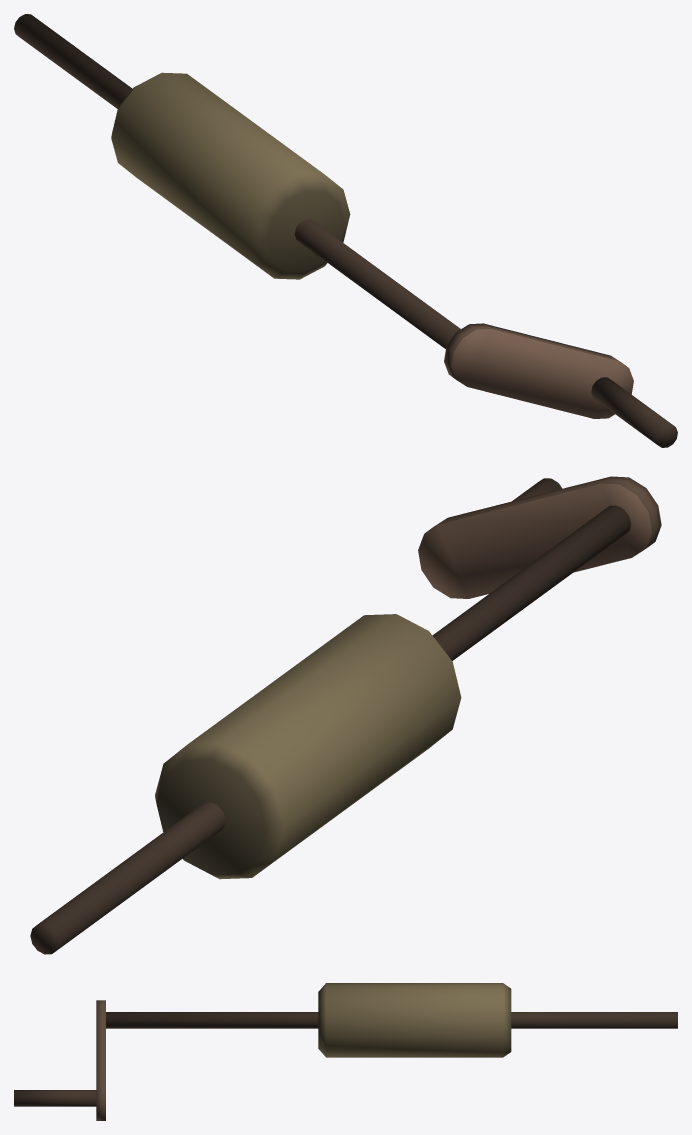
The picture shows the model from 3 angles, top to bottom: view 1: azimuth 30°, elevation 25°; view 2: azimuth 150°, elevation 25°; view 3: azimuth 270°, elevation 25°; orthographic projection. The views are drawn at different scales.
Visible parts, largest first — view 1: anim_0_0_20; view 2: anim_0_0_20; view 3: anim_0_0_20.
Boxes of the visible parts, x1,y1,x2,y2 form: anim_0_0_20: (14, 14, 677, 447); anim_0_0_20: (30, 476, 661, 954); anim_0_0_20: (14, 983, 677, 1120).
Size of the model in its own units: 0.1146 by 0.0773 by 0.5.
